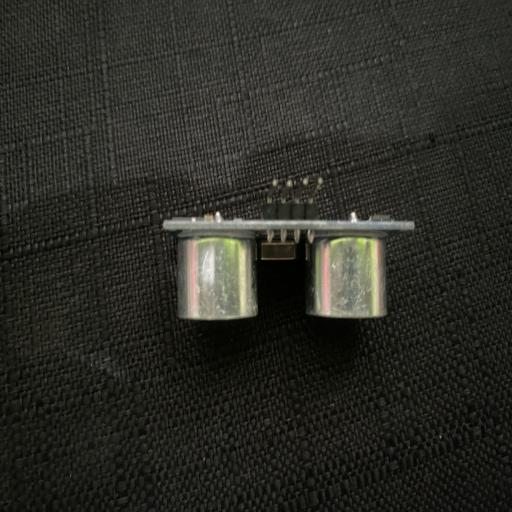Ultrasonic Sensor: (161, 176, 415, 322)
